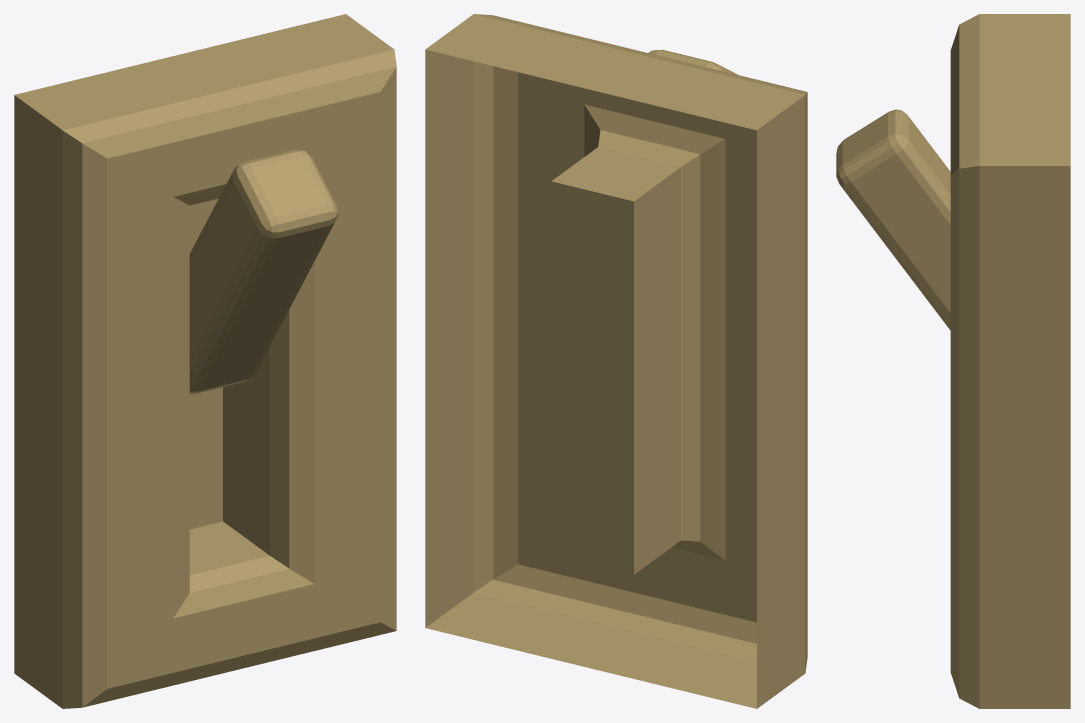
File: switch.glb
The picture shows the model from 3 angles, left to right: view 1: azimuth 30°, elevation 25°; view 2: azimuth 150°, elevation 25°; view 3: azimuth 270°, elevation 25°; orthographic projection. The views are drawn at different scales.
Parts seen in each view (by area): view 1: Plate, Lever; view 2: Plate; view 3: Plate, Lever.
Boxes of the visible parts, left/top/right/bottom form: Plate: left=14, top=14, right=396, bottom=708; Lever: left=189, top=149, right=337, bottom=393; Plate: left=425, top=14, right=807, bottom=708; Plate: left=950, top=14, right=1070, bottom=708; Lever: left=836, top=109, right=950, bottom=330.
Bounding box in the file's own units: 0.6 × 1 × 0.3911.
